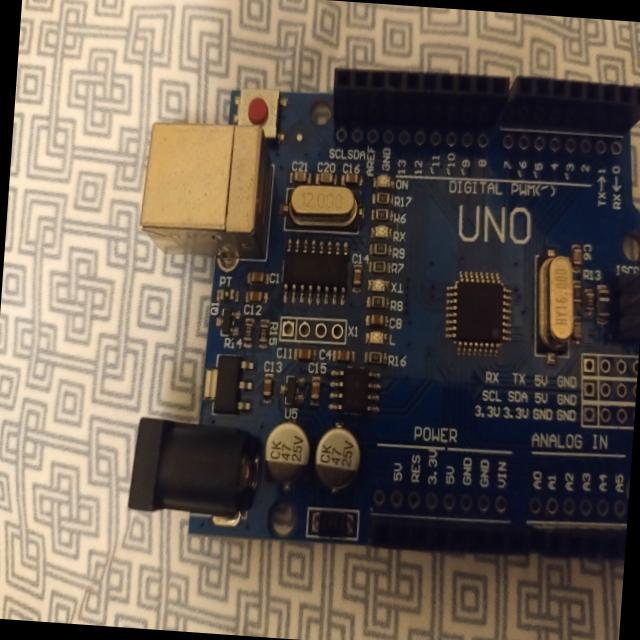arduino: (122, 37, 640, 578)
